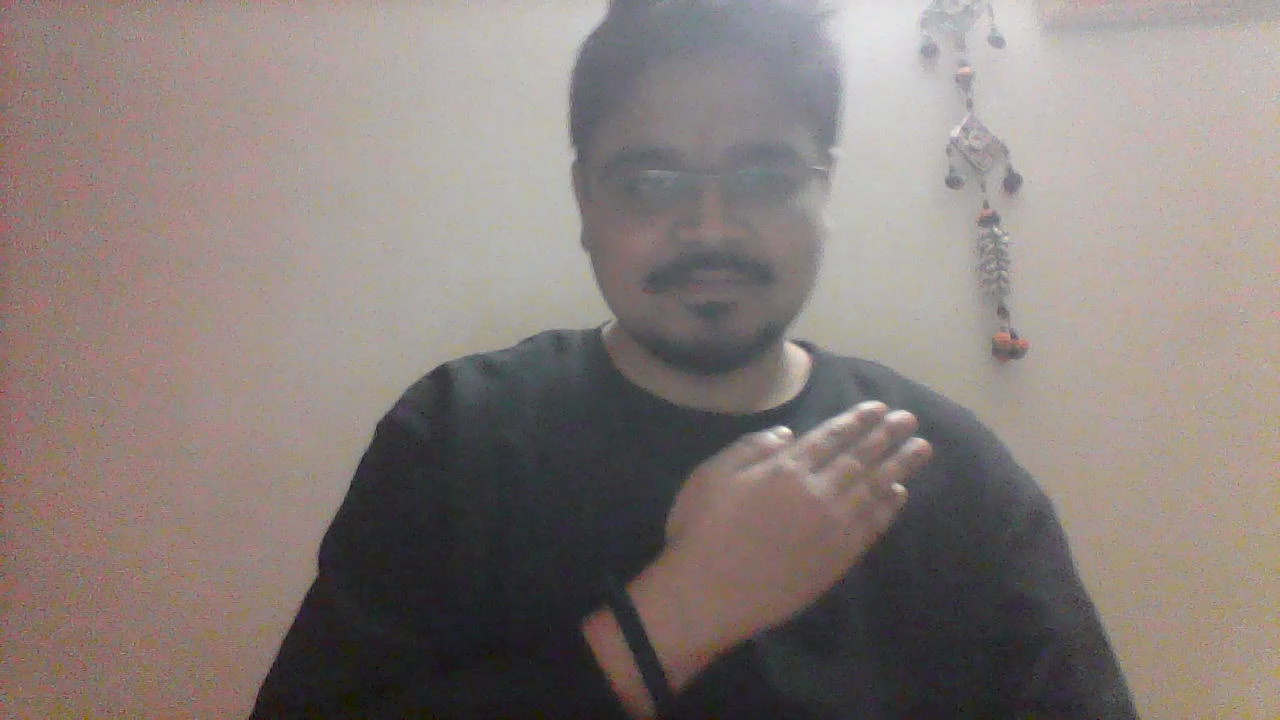Please: (644, 397, 934, 611)
